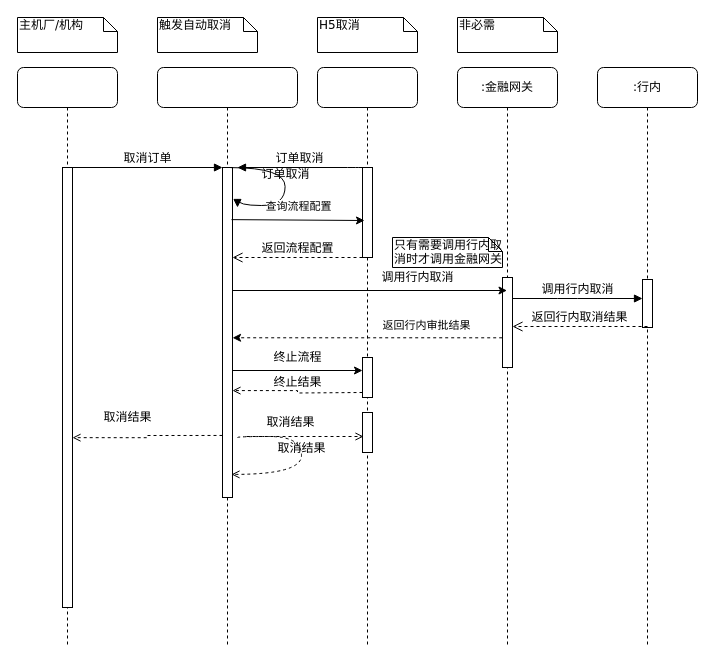
Image size: 715x665. Some labels were removed from this diagram. The box of each missing label's shape, as (x1, y1, x2, y2) in pixels:
:业务对接平台: (16, 66, 118, 648)
:流程引擎: (316, 66, 418, 648)
:订单中心: (156, 66, 298, 648)
